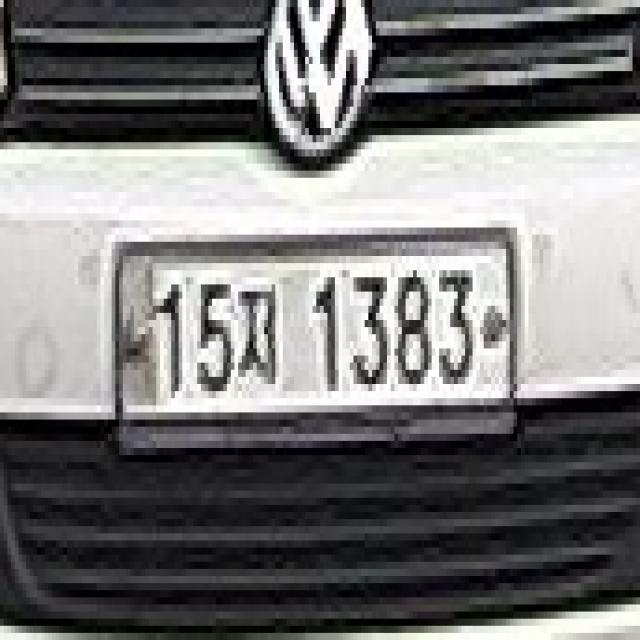1: (152, 270, 194, 406), (313, 263, 346, 398)
3: (432, 256, 476, 398), (346, 263, 391, 398)
5: (194, 270, 238, 406)
8: (394, 263, 439, 398)
jeo: (238, 278, 287, 406)
license_plate: (97, 206, 528, 476)
